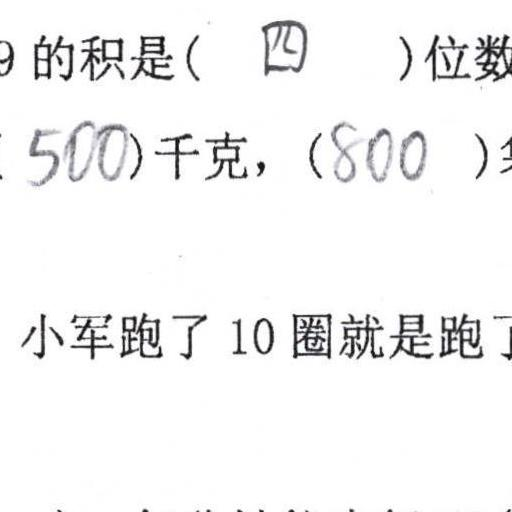ans: (323, 113, 428, 187), (25, 119, 128, 188), (252, 12, 309, 77)
